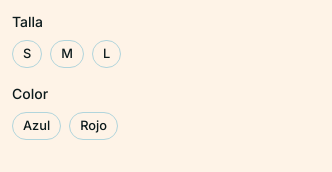
Test: VariantSelector › deshabilita los colores que no combinan con la talla seleccionada
This screenshot has width=332, height=172.
Expected: the button "Azul" is enabled, [12,112,61,140]
Expected: the button "Rojo" is enabled, [69,112,118,140]
Click the button "S": coordinates (27, 54) [12,40,42,68]
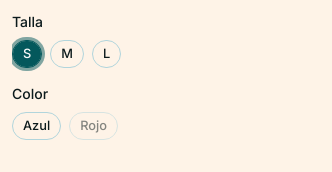
Expected: the button "Azul" is enabled, [12,112,61,140]
Expected: the button "Rojo" is disabled, [69,112,118,140]
